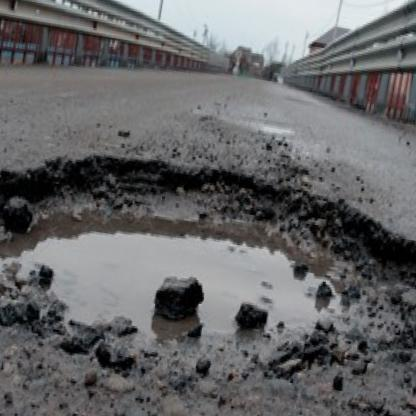pothole: (0, 119, 416, 416)
